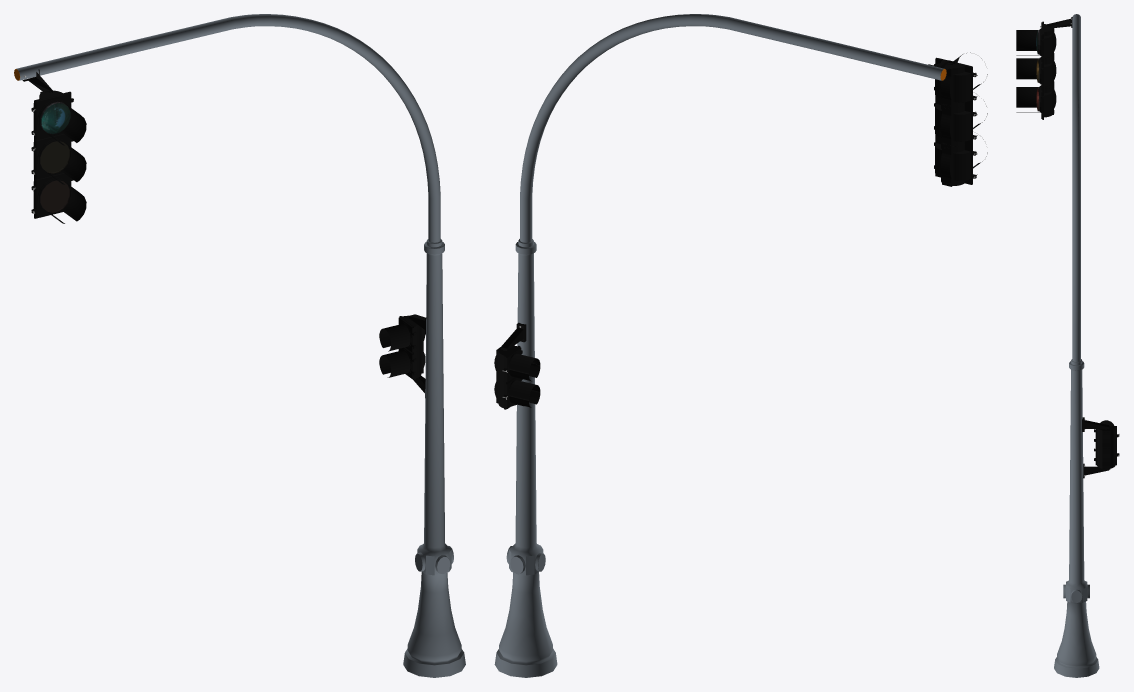
File: Semaforo.obj
3 views of the same model, side by side, from view 1: azimuth 30°, elevation 25°; view 2: azimuth 150°, elevation 25°; view 3: azimuth 270°, elevation 25° (orthographic). The views are drawn at different scales.
Visible parts, largest first — view 1: Circle_113, Semaforo; view 2: Circle_113, Semaforo; view 3: Circle_113, Semaforo.
Part boxes in pixels (left/top/right/bottom): Circle_113: left=14, top=14, right=465, bottom=677; Semaforo: left=22, top=69, right=86, bottom=223; Circle_113: left=494, top=14, right=946, bottom=677; Semaforo: left=928, top=52, right=987, bottom=186; Circle_113: left=1054, top=14, right=1119, bottom=677; Semaforo: left=1016, top=17, right=1072, bottom=119.
Bounding box in the file's own units: 66.52 × 97.65 × 18.1.
